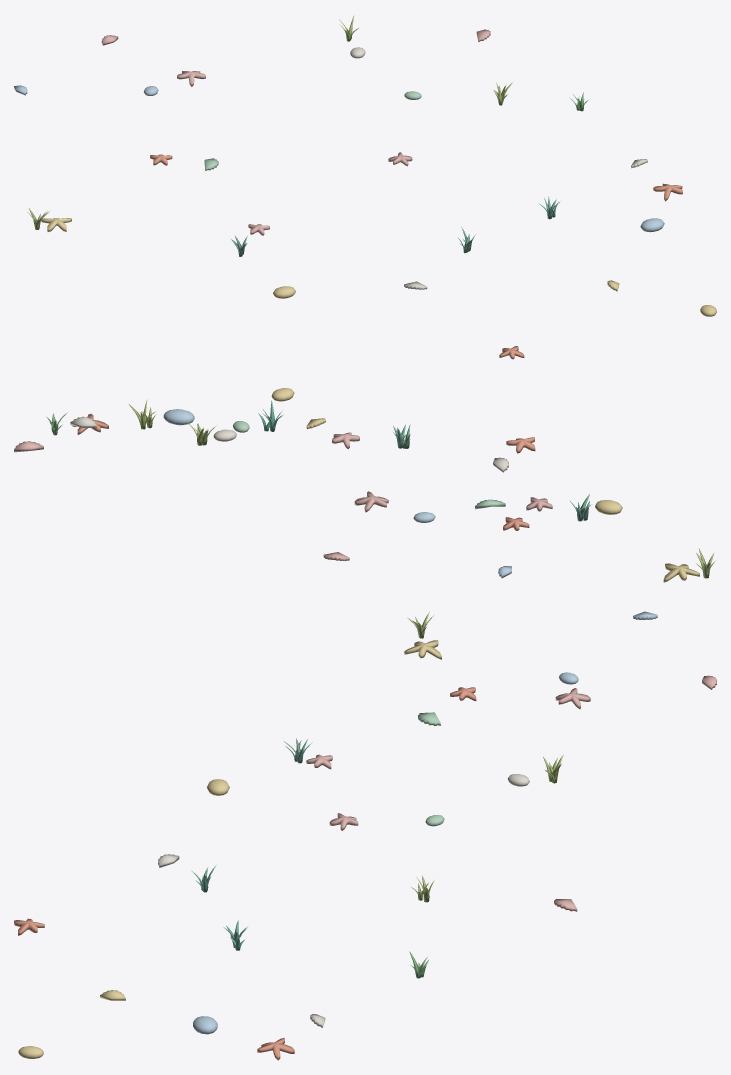
Rendered from W2_FloraRing_9_7.fbx.
The picture shows the model from 3 angles, top to bottom: view 1: azimuth 30°, elevation 25°; view 2: azimuth 150°, elevation 25°; view 3: azimuth 270°, elevation 25°; orthographic projection. The views are drawn at different scales.
Visible parts, largest first — view 1: W2_FloraRing_9_7; view 2: W2_FloraRing_9_7; view 3: W2_FloraRing_9_7.
Boxes of the visible parts, x1,y1,x2,y2 form: W2_FloraRing_9_7: (14, 15, 716, 359); W2_FloraRing_9_7: (14, 388, 716, 582); W2_FloraRing_9_7: (14, 611, 716, 1060).
Bounding box in the file's own units: 3.88 × 1.09 × 3.25.
